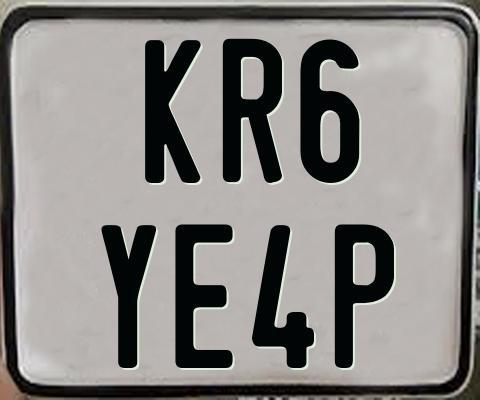4: (249, 223, 314, 369)
6: (298, 39, 358, 186)
E: (173, 223, 233, 367)
K: (142, 39, 204, 183)
P: (335, 221, 396, 370)
R: (223, 37, 287, 184)
Y: (99, 224, 158, 371)
